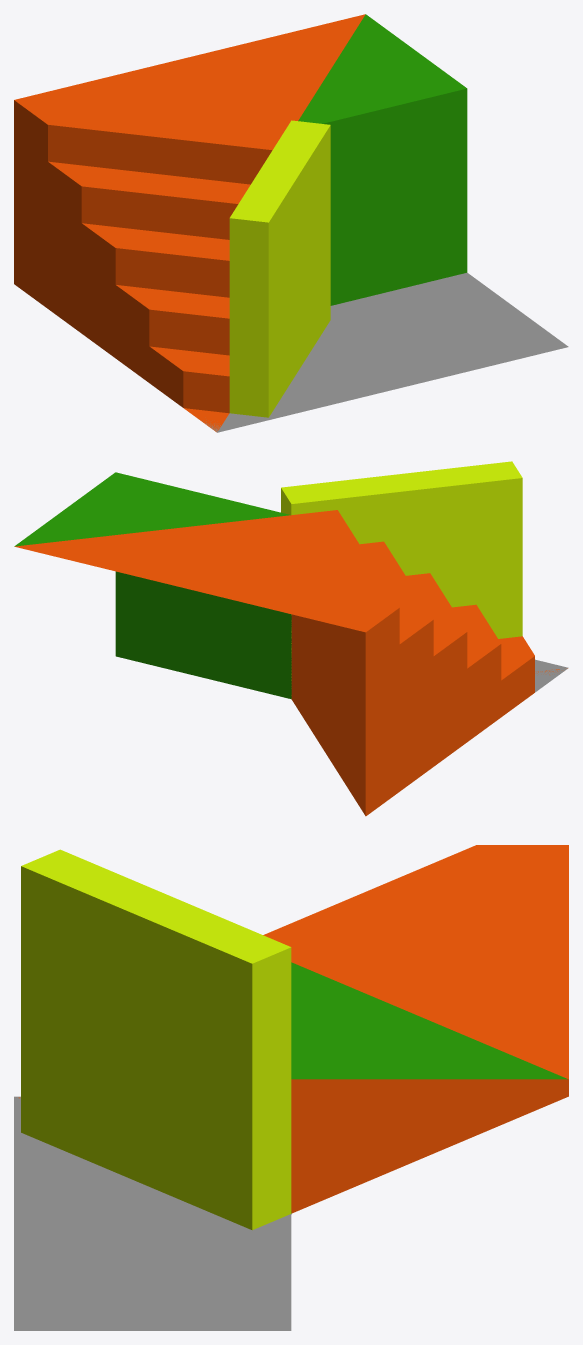
The picture shows the model from 3 angles, top to bottom: view 1: azimuth 30°, elevation 25°; view 2: azimuth 150°, elevation 25°; view 3: azimuth 270°, elevation 25°; orthographic projection. The views are drawn at different scales.
Visible parts, largest first — view 1: T_3_9_0; view 2: T_3_9_0; view 3: T_3_9_0.
Boxes of the visible parts, <box> form: T_3_9_0: <box>14,14,568,432</box>; T_3_9_0: <box>14,461,568,816</box>; T_3_9_0: <box>14,845,568,1330</box>.
Size of the model in its own units: 99.79 by 52.89 by 99.81.
